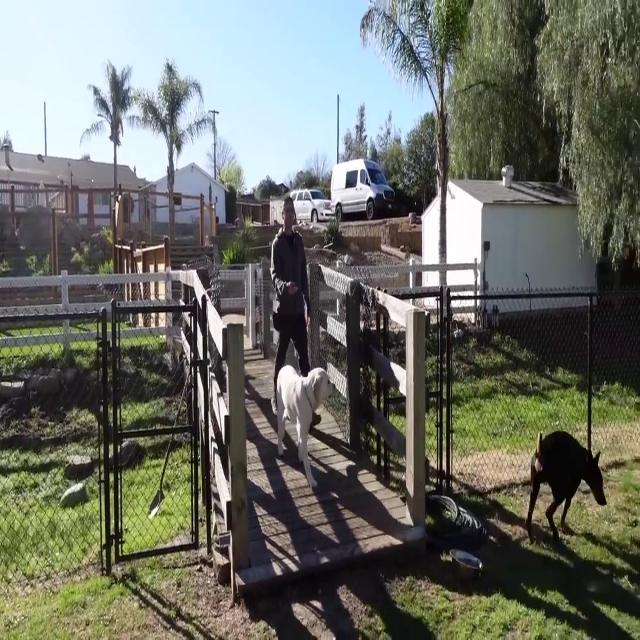Dog: (527, 429, 608, 543)
Unleashed_Dog: (271, 297, 337, 493)
